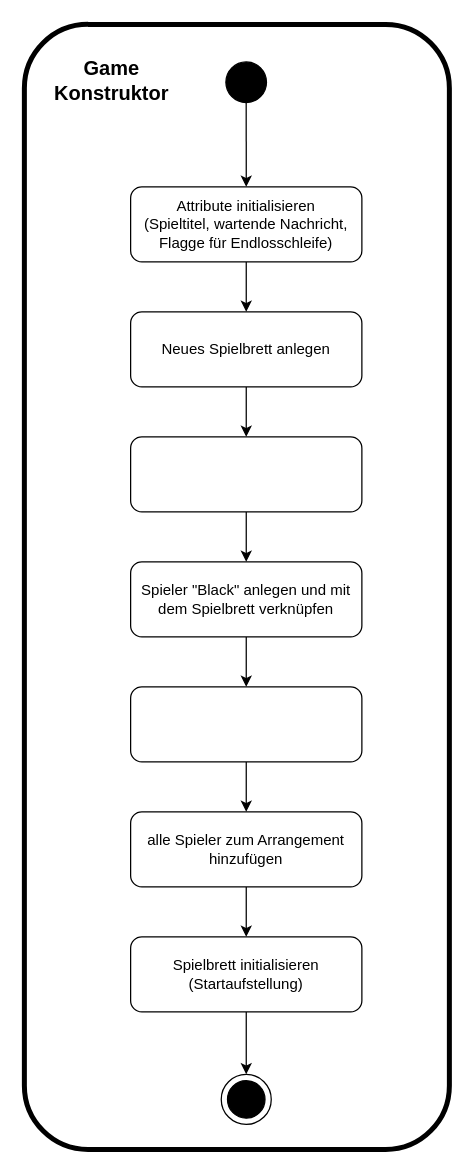
This 473x1173 diagram has some shape labels left out. Here are the shapes that lost their labels. From the top down, the centre of each, then its label:
(x=245, y=474): Spieler "White" anlegen und mit dem Spielbrett verknüpfen
(x=245, y=724): Neues Arrangement anlegen
